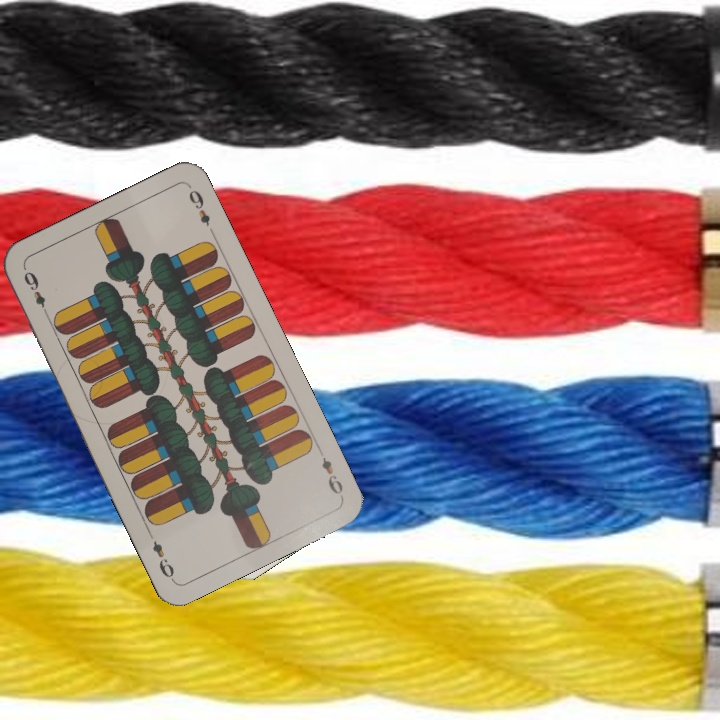E9: (19, 267, 52, 321), (317, 453, 346, 498)
